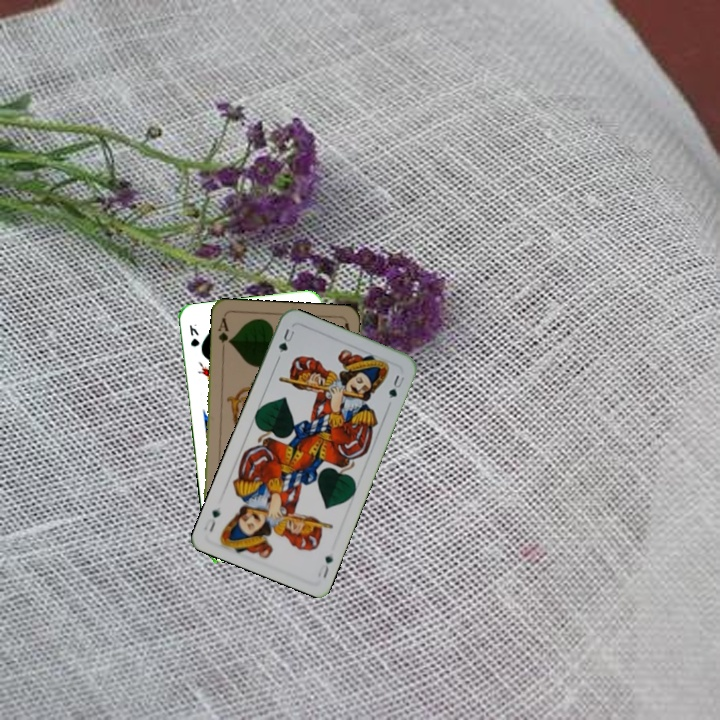GA: (214, 314, 233, 354)
GK: (185, 321, 202, 349)
GU: (274, 325, 298, 355), (315, 552, 336, 580)
